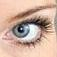eye: (13, 25, 30, 37)
